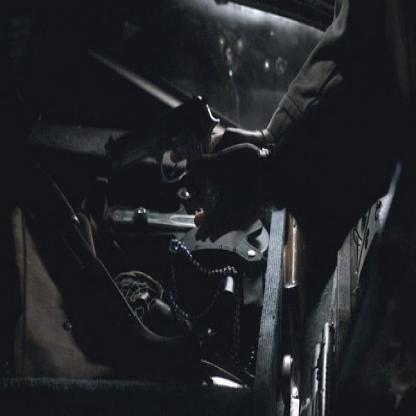Guns: (22, 149, 203, 388), (103, 92, 225, 223)
